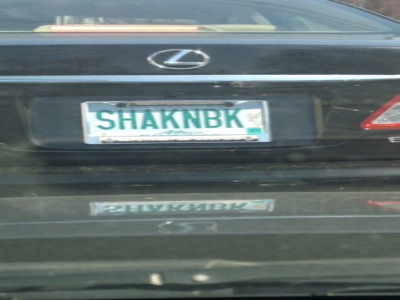licence: (82, 101, 273, 143)
